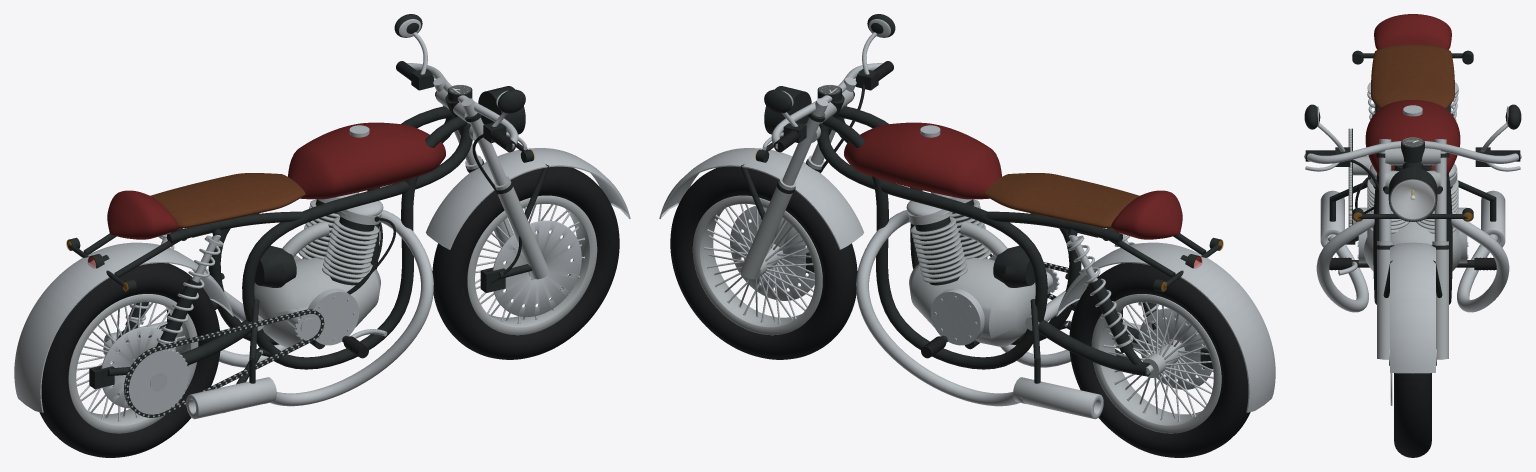
Rendered from cafe-racer-512.glb.
3 renders of one model, left to right at view 1: azimuth 30°, elevation 25°; view 2: azimuth 150°, elevation 25°; view 3: azimuth 270°, elevation 25°, orthographic. The views are drawn at different scales.
Visible parts, largest first — view 1: Carburettor and intake enclosure, Continuous rear spring 1, Front wheel rounded tyre carcass, Rear wheel rounded tyre carcass, Original sculpted fuel tank, Cylinder 1 cooling fin 1, Rear toothed chain sprocket, Shaped upholstered seat, Front wheel drilled finite brake rotor, Front finite curved mudguard, Front wheel bearing hub, Rear sprocket hub spacer (+5 smaller); view 2: Carburettor and intake enclosure, Continuous rear spring 1, Front wheel rounded tyre carcass, Rear wheel rounded tyre carcass, Original sculpted fuel tank, Cylinder 1 cooling fin 1, Rear sprocket hub spacer, Front wheel bearing hub, Shaped upholstered seat, Rear toothed chain sprocket, Front finite curved mudguard, Front wheel crossed spoke 1 (+4 smaller); view 3: Continuous rear spring 1, Carburettor and intake enclosure, Front finite curved mudguard, Original sculpted fuel tank, Shaped upholstered seat, Front wheel rounded tyre carcass, Lower telescopic fork leg 1, Cylinder 1 cooling fin 1, Polished fork stanchion 1, Round headlamp finite curved optic, Curved ignition lead 1, Steering triple clamp 0.86 (+2 smaller).
Part boxes in pixels (x1,y1,x2,y2): Carburettor and intake enclosure: (67, 14, 533, 417); Continuous rear spring 1: (14, 19, 527, 419); Front wheel rounded tyre carcass: (432, 166, 619, 359); Rear wheel rounded tyre carcass: (39, 263, 220, 457); Original sculpted fuel tank: (107, 122, 445, 239); Cylinder 1 cooling fin 1: (124, 197, 381, 414); Rear toothed chain sprocket: (76, 302, 189, 421); Shaped upholstered seat: (150, 173, 305, 228); Front wheel drilled finite brake rotor: (492, 220, 581, 316); Front finite curved mudguard: (426, 148, 630, 249); Front wheel bearing hub: (467, 195, 597, 335); Rear sprocket hub spacer: (68, 294, 198, 433); Carburettor and intake enclosure: (756, 14, 1222, 383); Continuous rear spring 1: (762, 19, 1275, 419); Front wheel rounded tyre carcass: (670, 166, 857, 359); Rear wheel rounded tyre carcass: (1069, 263, 1250, 457); Original sculpted fuel tank: (844, 122, 1182, 239); Cylinder 1 cooling fin 1: (908, 197, 1156, 348); Rear sprocket hub spacer: (1091, 294, 1221, 433); Front wheel bearing hub: (692, 195, 822, 335); Shaped upholstered seat: (984, 173, 1139, 228); Rear toothed chain sprocket: (1103, 302, 1213, 421); Front finite curved mudguard: (659, 148, 863, 249); Front wheel crossed spoke 1: (704, 204, 814, 323); Continuous rear spring 1: (1304, 89, 1521, 312); Carburettor and intake enclosure: (1304, 50, 1521, 304); Front finite curved mudguard: (1390, 242, 1435, 373); Original sculpted fuel tank: (1365, 14, 1460, 175); Shaped upholstered seat: (1371, 44, 1454, 108); Front wheel rounded tyre carcass: (1394, 373, 1431, 457); Lower telescopic fork leg 1: (1377, 241, 1448, 359); Cylinder 1 cooling fin 1: (1349, 82, 1461, 271); Polished fork stanchion 1: (1379, 139, 1446, 241); Round headlamp finite curved optic: (1389, 179, 1436, 221); Curved ignition lead 1: (1305, 150, 1520, 270); Steering triple clamp 0.86: (1385, 148, 1440, 188).
Bounding box in the file's own units: 2.14 × 1.09 × 0.6912.
Materials: 13 (8 with a texture image).
